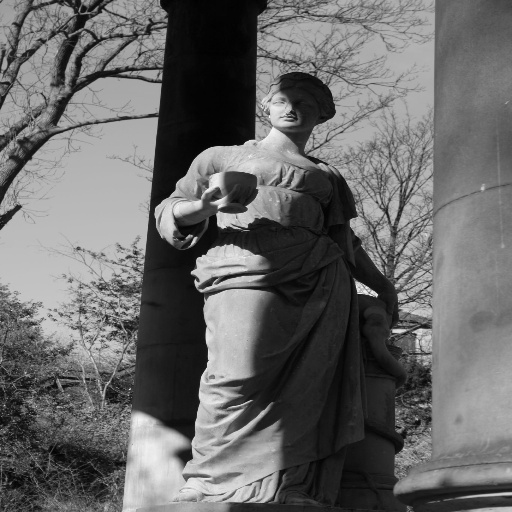hand: (200, 183, 258, 211), (378, 289, 400, 329)
